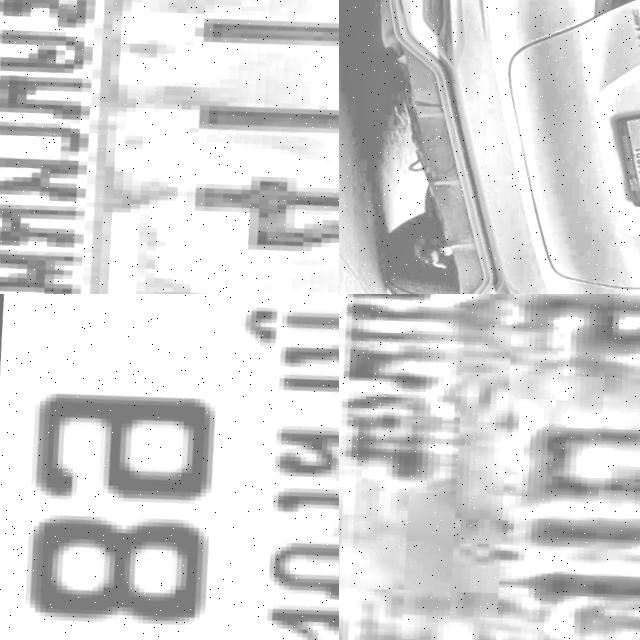license-plate: (0, 294, 339, 640), (339, 294, 640, 640), (0, 0, 339, 294), (601, 103, 640, 217)
